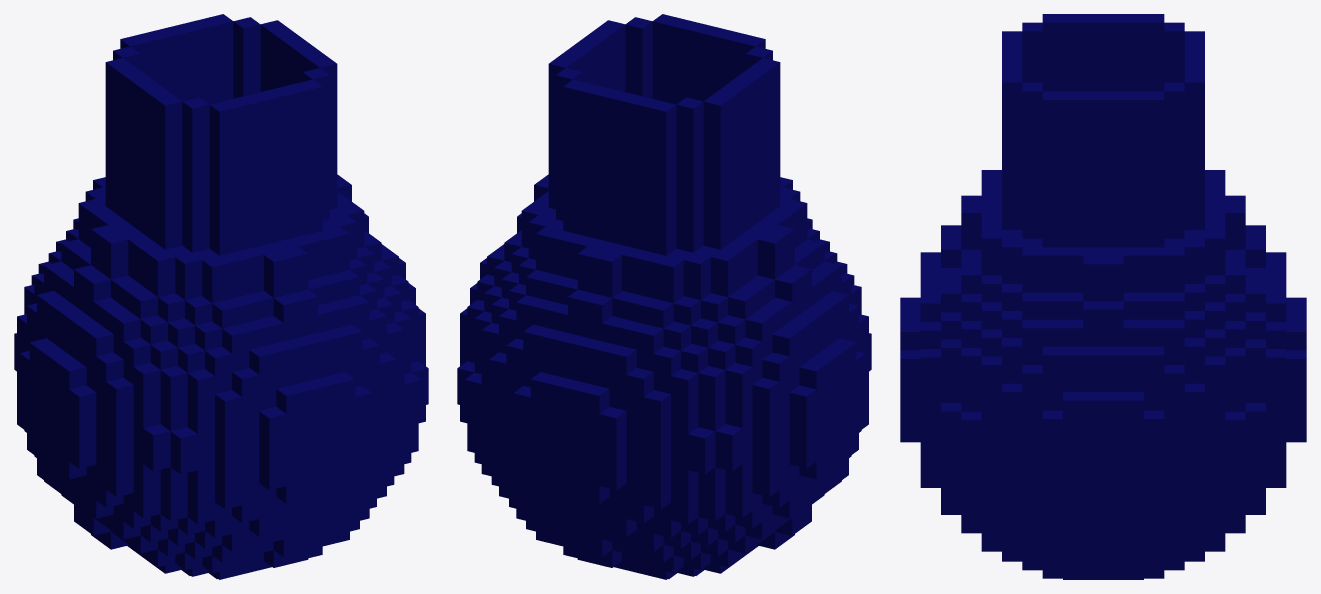
Rendered from bluePot.obj.
The picture shows the model from 3 angles, left to right: view 1: azimuth 30°, elevation 25°; view 2: azimuth 150°, elevation 25°; view 3: azimuth 270°, elevation 25°; orthographic projection. The views are drawn at different scales.
Bounding box in the file's own units: 2 × 2.7 × 2.
1 material, 1 textured.
